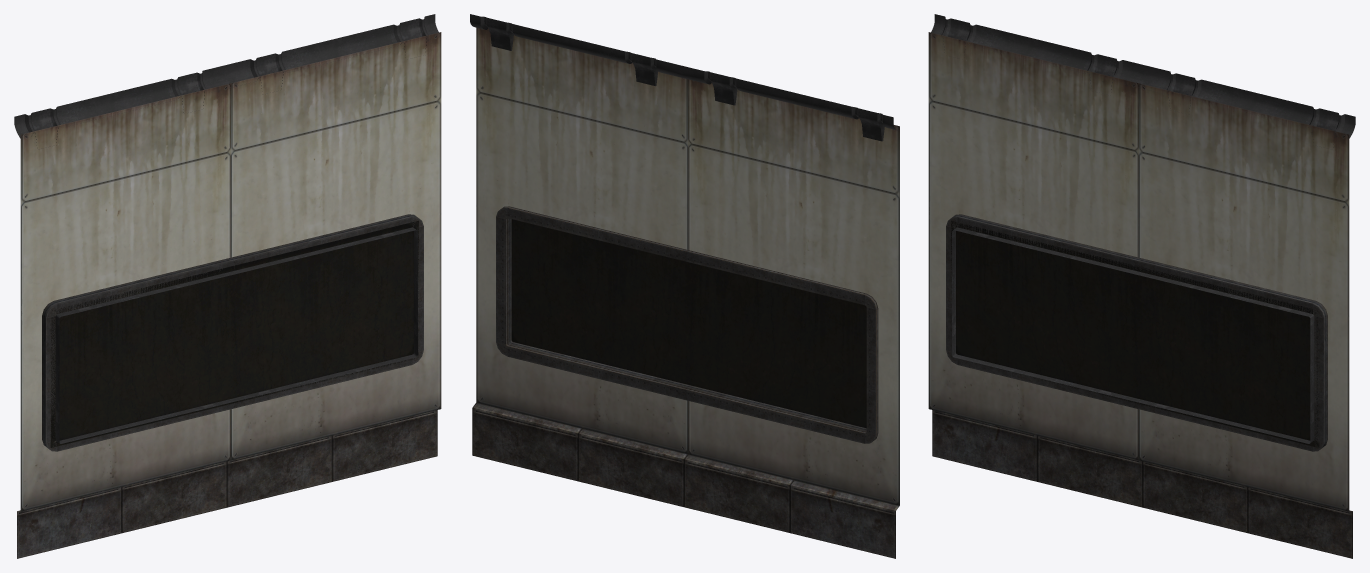
Rendered from lab_window_large.dae.
3 renders of one model, left to right at view 1: azimuth 30°, elevation 25°; view 2: azimuth 150°, elevation 25°; view 3: azimuth 330°, elevation 25°, orthographic.
Parts seen in each view (by area): view 1: lab_window_large, glass__2_; view 2: lab_window_large, glass__2_; view 3: lab_window_large, glass__2_.
Boxes of the visible parts, x1,y1,x2,y2 form: lab_window_large: (14,14,441,558); glass__2_: (50,220,418,447); lab_window_large: (470,14,899,558); glass__2_: (511,219,866,428); lab_window_large: (928,14,1355,558); glass__2_: (951,220,1319,447).
Bounding box in the file's own units: 4 × 4 × 0.2276.
